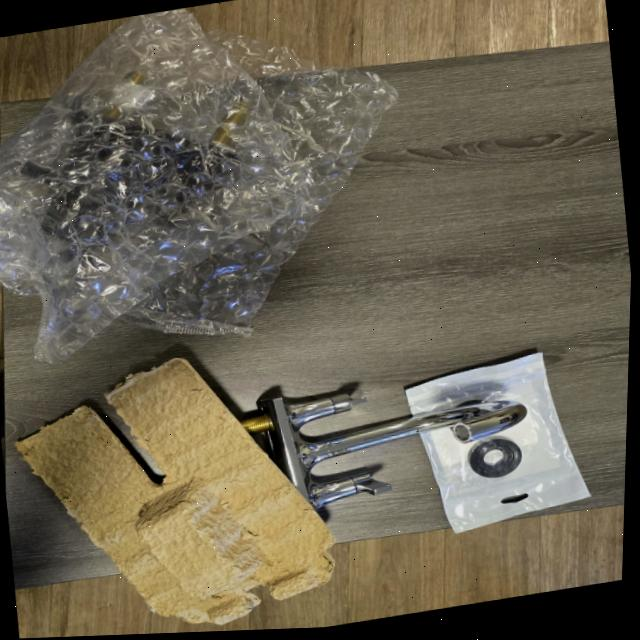10o: (239, 393, 525, 510)
13o: (404, 353, 589, 532)
9c: (0, 8, 396, 362)
